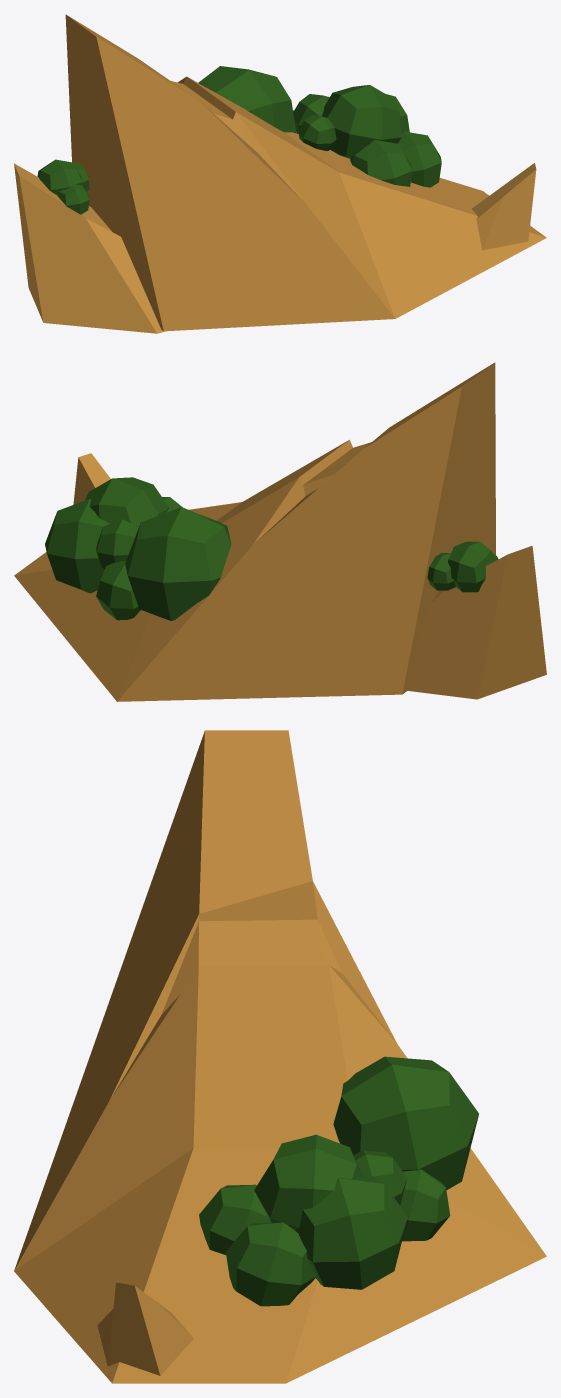
File: Obstaculo1.fbx
3 views of the same model, one above another, from view 1: azimuth 30°, elevation 25°; view 2: azimuth 150°, elevation 25°; view 3: azimuth 270°, elevation 25° (orthographic). The views are drawn at different scales.
Parts seen in each view (by area): view 1: Obstaculo1; view 2: Obstaculo1; view 3: Obstaculo1.
Part boxes in pixels (x1,y1,x2,y2): Obstaculo1: (14, 14, 546, 333); Obstaculo1: (14, 362, 546, 701); Obstaculo1: (14, 730, 546, 1383).
Bounding box in the file's own units: 1600 × 928 × 1152.
